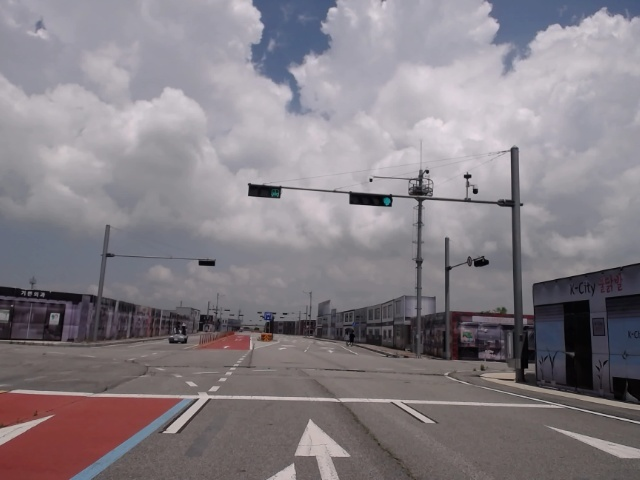straight_green_4: (351, 192, 394, 209)
